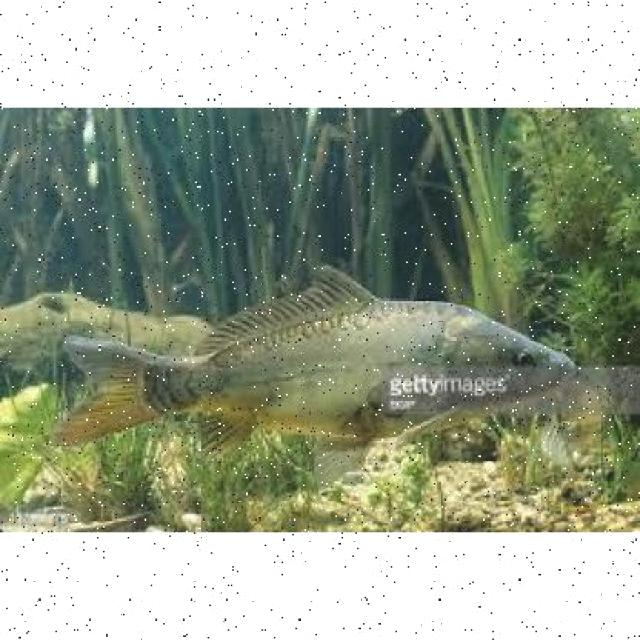ikan-mas: (54, 266, 574, 454)
